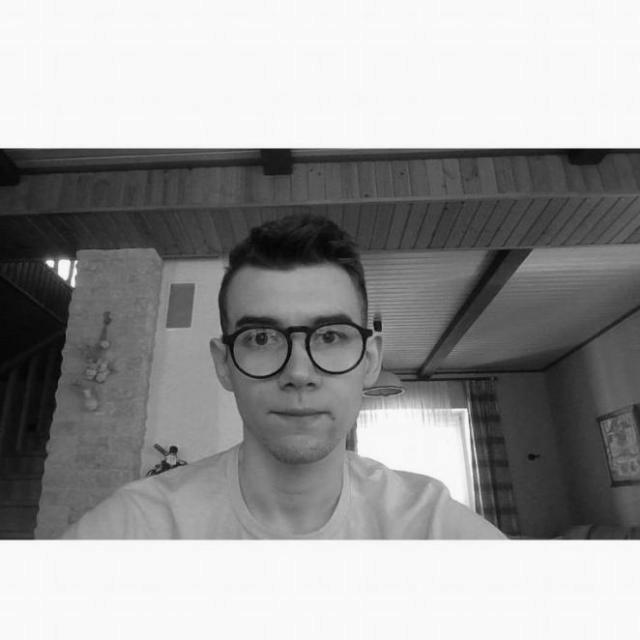real: (225, 268, 370, 464)
